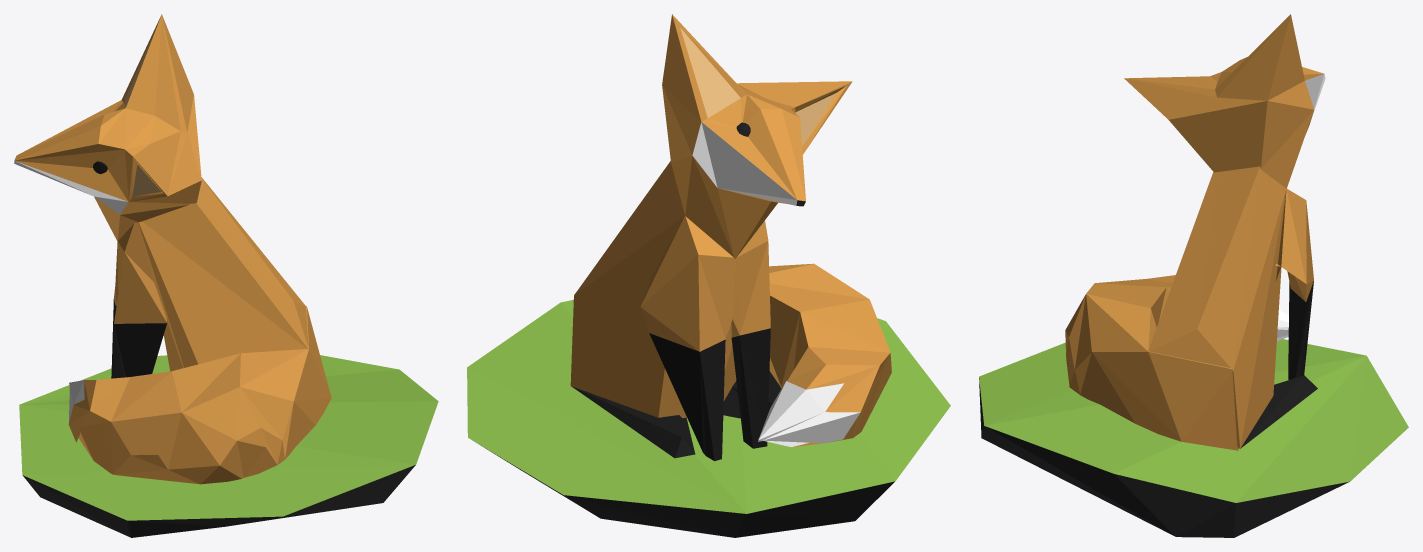
Rendered from fox.glb.
The picture shows the model from 3 angles, left to right: view 1: azimuth 30°, elevation 25°; view 2: azimuth 150°, elevation 25°; view 3: azimuth 270°, elevation 25°; orthographic projection. The views are drawn at different scales.
Visible parts, largest first — view 1: group1900056852, group125599753, group500549351, group1054568923; view 2: group1900056852, group500549351, group1054568923, group125599753; view 3: group1900056852, group500549351, group125599753, group1054568923.
Boxes of the visible parts, x1,y1,x2,y2 form: group1900056852: (19,355,438,537); group125599753: (68,306,331,484); group500549351: (111,177,309,378); group1054568923: (14,14,201,241); group1900056852: (467,300,950,537); group500549351: (570,161,781,461); group1054568923: (662,14,852,258); group125599753: (573,263,891,447); group1900056852: (979,339,1408,537); group500549351: (1147,166,1317,448); group125599753: (1065,275,1288,450); group1054568923: (1124,14,1325,188).
Bounding box in the file's own units: 0.7026 × 0.7649 × 0.6885.
